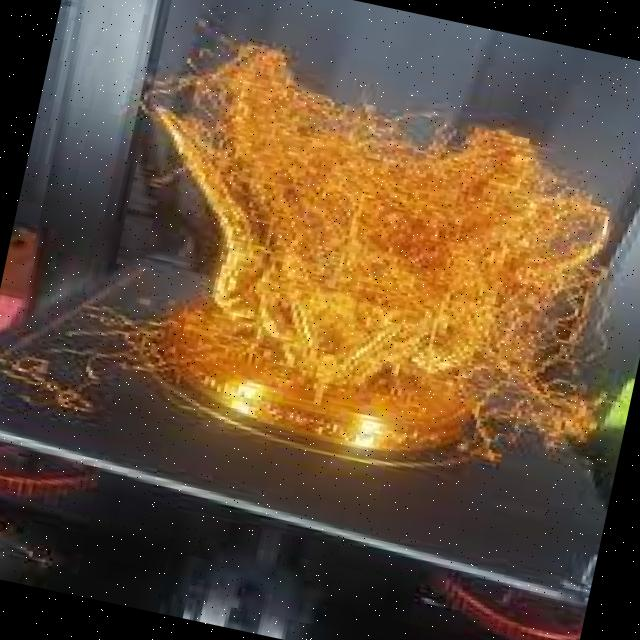spaghetti: (112, 22, 609, 412)
